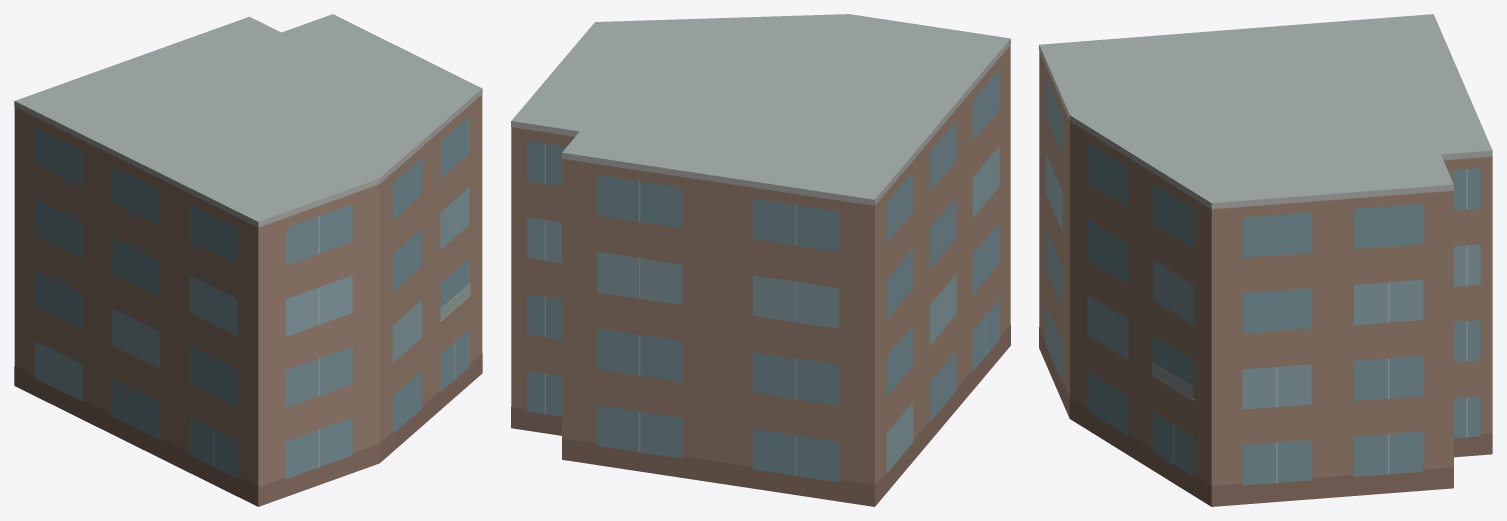
File: residential-60490f74-7572-4f1c-a1e6-98126a3721da.glb
3 views of the same model, side by side, from view 1: azimuth 30°, elevation 25°; view 2: azimuth 150°, elevation 25°; view 3: azimuth 270°, elevation 25° (orthographic). The views are drawn at different scales.
Parts seen in each view (by area): view 1: residential-60490f74-7572-4f1c-a1e6-98126a3721da.tmp; view 2: residential-60490f74-7572-4f1c-a1e6-98126a3721da.tmp; view 3: residential-60490f74-7572-4f1c-a1e6-98126a3721da.tmp.
Part boxes in pixels (box(x1,y1,x2,y2)): residential-60490f74-7572-4f1c-a1e6-98126a3721da.tmp: box(14, 14, 482, 506); residential-60490f74-7572-4f1c-a1e6-98126a3721da.tmp: box(511, 14, 1010, 506); residential-60490f74-7572-4f1c-a1e6-98126a3721da.tmp: box(1039, 14, 1492, 506).
Bounding box in the file's own units: 16.31 × 12.2 × 16.52.
